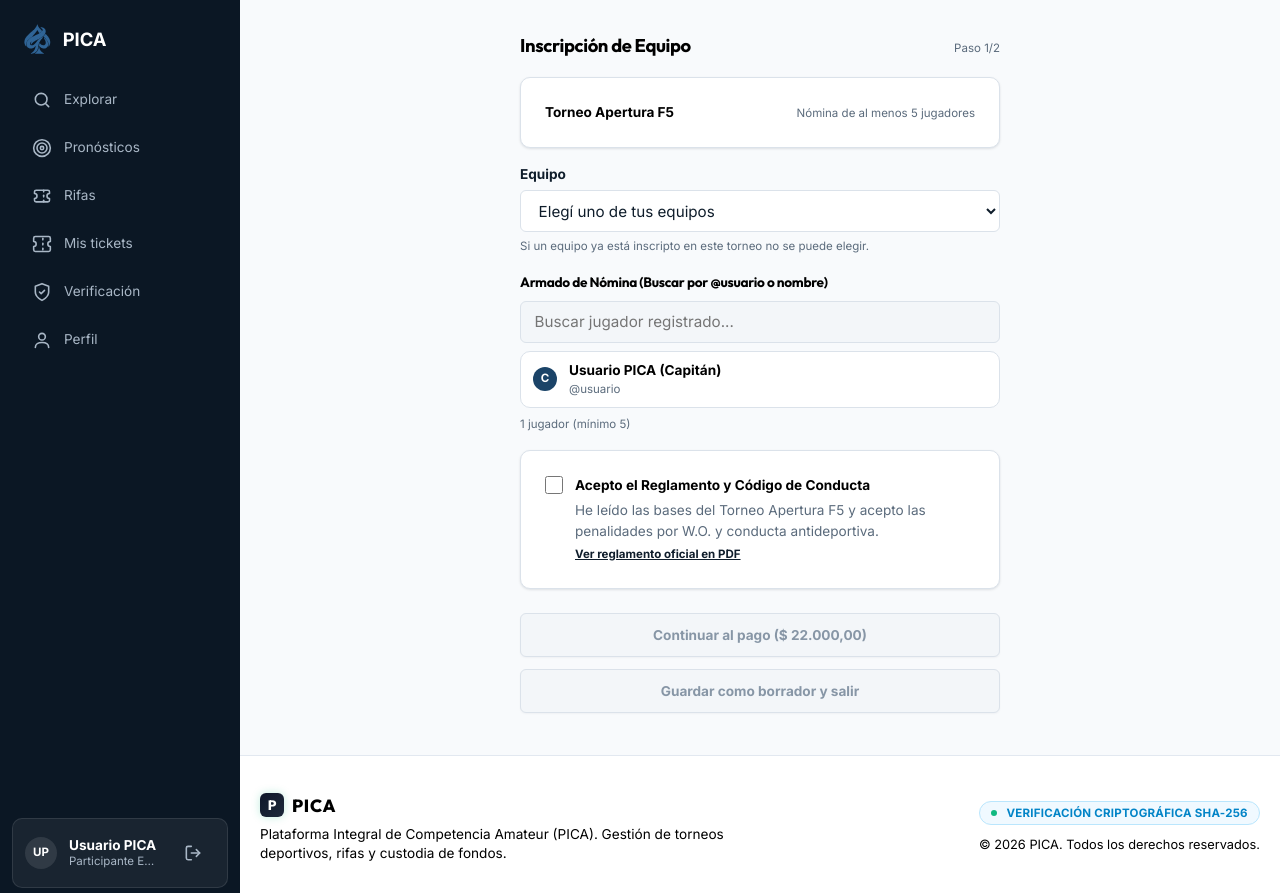
Test: paso 1: equipo y nómina (alta) › con "Crear un equipo nuevo" pide el nombre
Select "Crear un equipo nuevo" in the dropdown labelled "Equipo": (760, 211) [520, 190, 1000, 232]
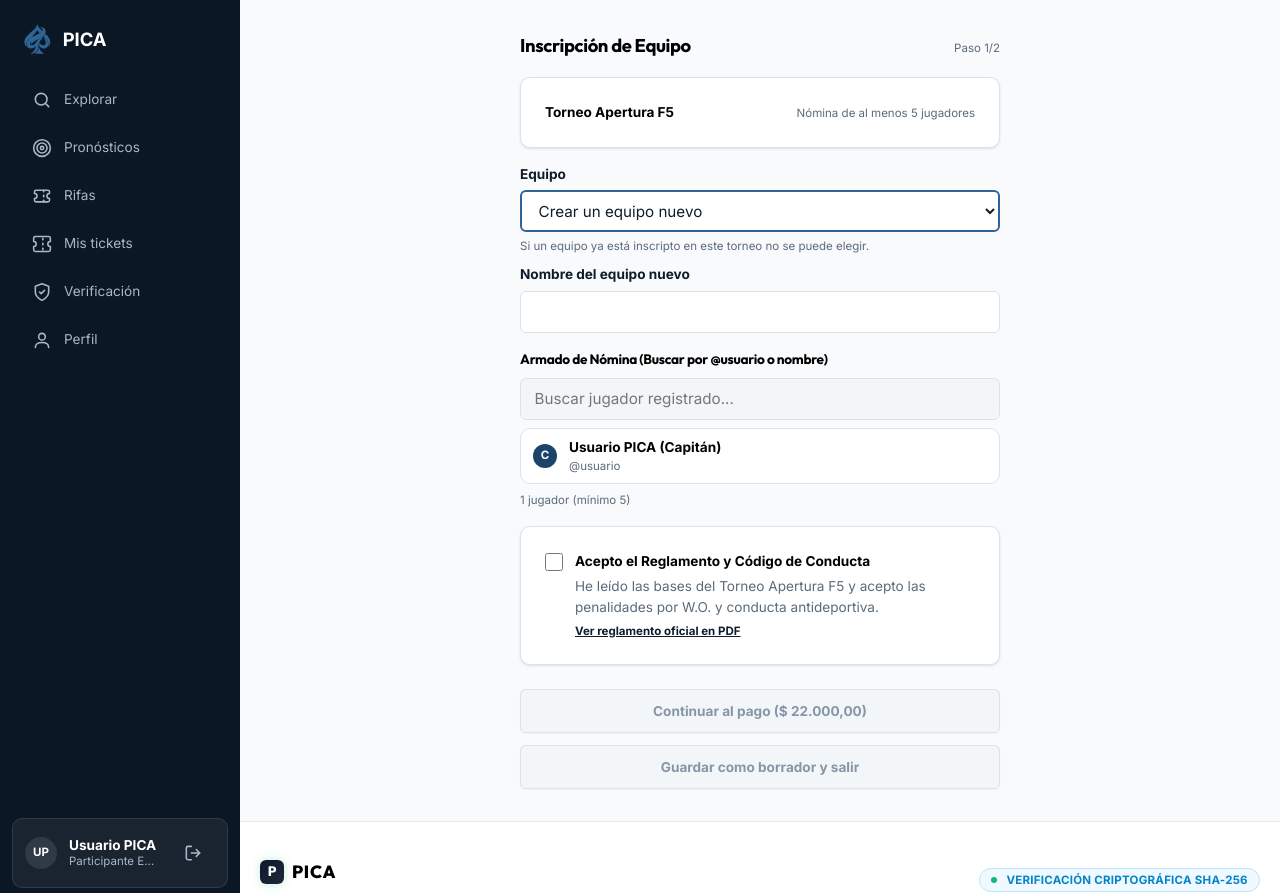
Expected: the field labelled "Nombre del equipo nuevo" is shown, [520, 290, 1000, 332]
